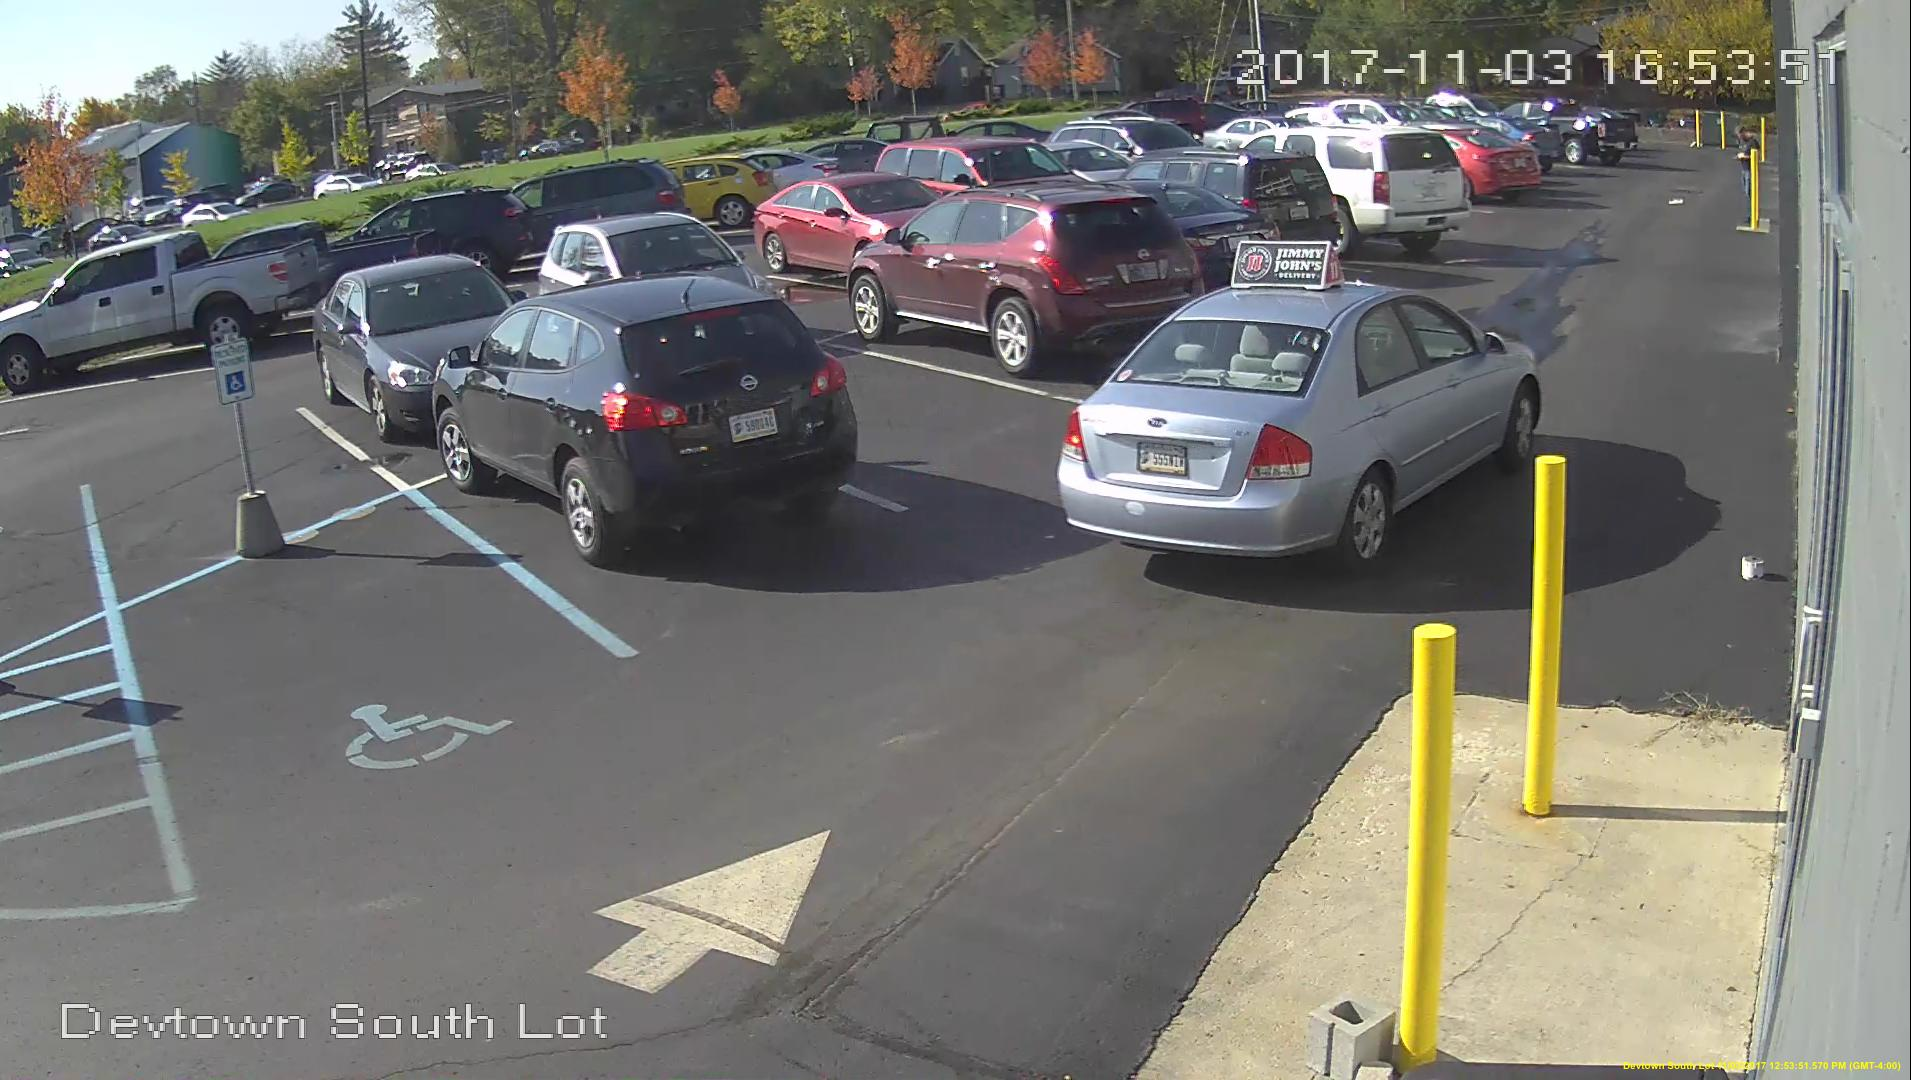jimmy_johns: (1228, 236, 1351, 297)
